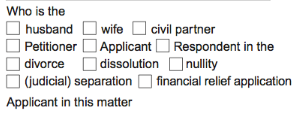checkbox: (81, 19, 97, 36), (81, 37, 97, 54), (81, 55, 97, 72), (136, 73, 152, 90), (167, 56, 183, 73), (154, 37, 170, 54), (130, 20, 146, 37), (4, 20, 20, 36), (4, 38, 20, 54), (4, 56, 20, 72), (4, 73, 20, 89)
